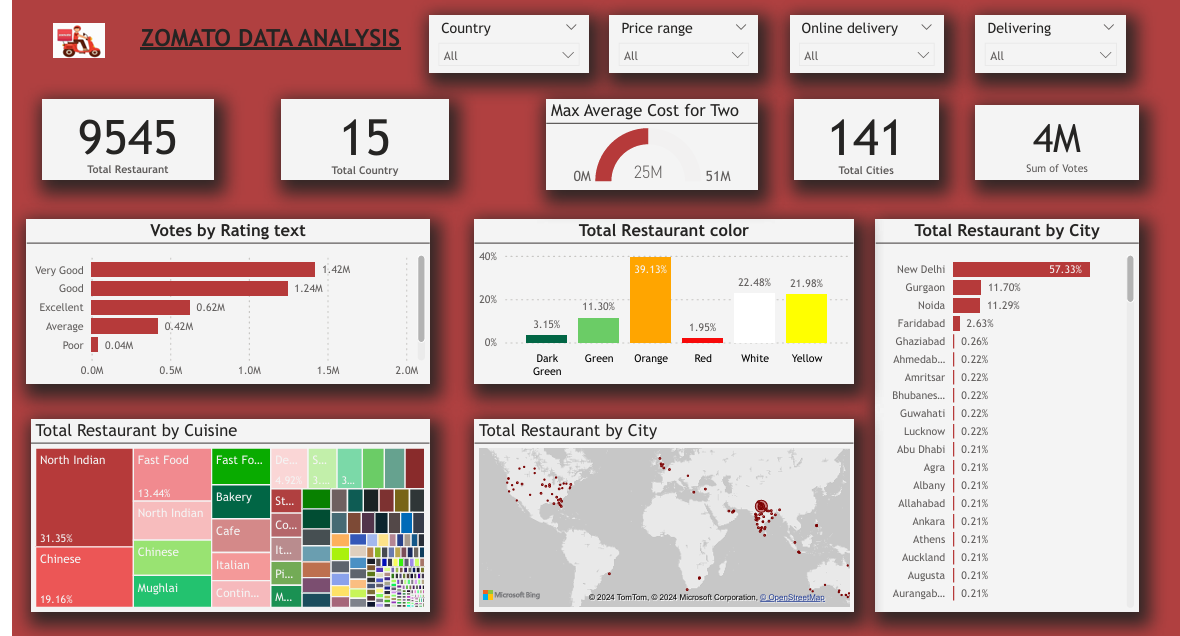

This screenshot's page, from the dashboard's own definition file:
{"tool":"powerbi","page":{"name":"Page 1","canvas":[1280,720],"ordinal":0},"visuals":[{"type":"slicer","fields":{"Values":["zomato (2).Country names"]},"box":[469.6,18,178.9,64],"z":0},{"type":"slicer","fields":{"Values":["zomato (2).Price range"]},"box":[672.5,18,166.9,64],"z":1000},{"type":"slicer","fields":{"Values":["zomato (2).Is delivering now"]},"box":[1086.2,18,168.9,64],"z":2000},{"type":"slicer","title":"Online Deliver","fields":{"Values":["zomato (2).Has Online delivery"]},"box":[876.3,18,172.9,64],"z":3000},{"type":"card","fields":{"Values":["zomato (2).Total Restaurant"]},"box":[34,111.9,192.8,89.9],"z":4000},{"type":"card","fields":{"Values":["zomato (2).Total Country"]},"box":[302.8,111.9,187.9,89.9],"z":5000},{"type":"card","fields":{"Values":["zomato (2).Total Cities"]},"box":[892.3,111.9,161.9,89.9],"z":6000},{"type":"card","fields":{"Values":["Sum(zomato (2).Votes)"]},"box":[1086.2,118.9,182.9,82.9],"z":7000},{"type":"clusteredBarChart","title":" Total Restaurant by City","fields":{"Category":["zomato (2).City"],"Y":["zomato (2).Total Restaurant"]},"box":[973.5,248.2,295.9,440.8],"z":8000},{"type":"treemap","fields":{"Group":["zomato (2).Cuisine"],"Values":["Divide(zomato (2).Total Restaurant, ScopedEval(zomato (2).Total Restaurant, []))"]},"box":[21,473.6,448.6,215.8],"z":9000},{"type":"columnChart","title":"Total Restaurant color","fields":{"Category":["zomato (2).Rating color","zomato (2).Rating text"],"Y":["Divide(zomato (2).Total Restaurant, ScopedEval(zomato (2).Total Restaurant, []))"]},"box":[520.6,247.8,426.7,184.9],"z":10000},{"type":"barChart","title":" Votes by Rating text","fields":{"Category":["zomato (2).Rating text"],"Y":["Sum(zomato (2).Votes)"]},"box":[16,247.8,453.6,184.9],"z":11000},{"type":"gauge","title":"Max Average Cost for Two","fields":{"Y":["Sum(zomato (2).Average Cost for two)"]},"box":[601.5,111.9,237.8,100.9],"z":12000},{"type":"map","fields":{"Size":["zomato (2).Total Restaurant"],"Category":["zomato (2).City"]},"box":[520.6,473.6,426.7,215.8],"z":13000},{"type":"textbox","box":[121,22.1,336.6,59.2],"z":17000},{"type":"image","box":[11,22,126.9,48],"z":18000}]}

Visuals, with their boxes in screenshot pixels (x1, y1, x2, y2):
slicer - zomato (2).Country names: 418:7:580:65
slicer - zomato (2).Price range: 601:7:752:65
slicer - zomato (2).Is delivering now: 975:7:1128:65
"Online Deliver" slicer: 785:7:942:65
card - zomato (2).Total Restaurant: 25:92:199:173
card - zomato (2).Total Country: 267:92:437:173
card - zomato (2).Total Cities: 800:92:946:173
card - Sum(zomato (2).Votes): 975:98:1140:173
" Total Restaurant by City" clusteredBarChart: 873:215:1140:613
treemap - zomato (2).Cuisine x Divide(zomato (2).Total Restaurant, ScopedEval(zomato (2).Total Restaurant, [])): 13:419:418:613
"Total Restaurant color" columnChart: 464:215:850:382
" Votes by Rating text" barChart: 8:215:418:382
"Max Average Cost for Two" gauge: 537:92:752:183
map - zomato (2).Total Restaurant x zomato (2).City: 464:419:850:613
textbox: 103:11:407:64
image: 4:11:118:54
